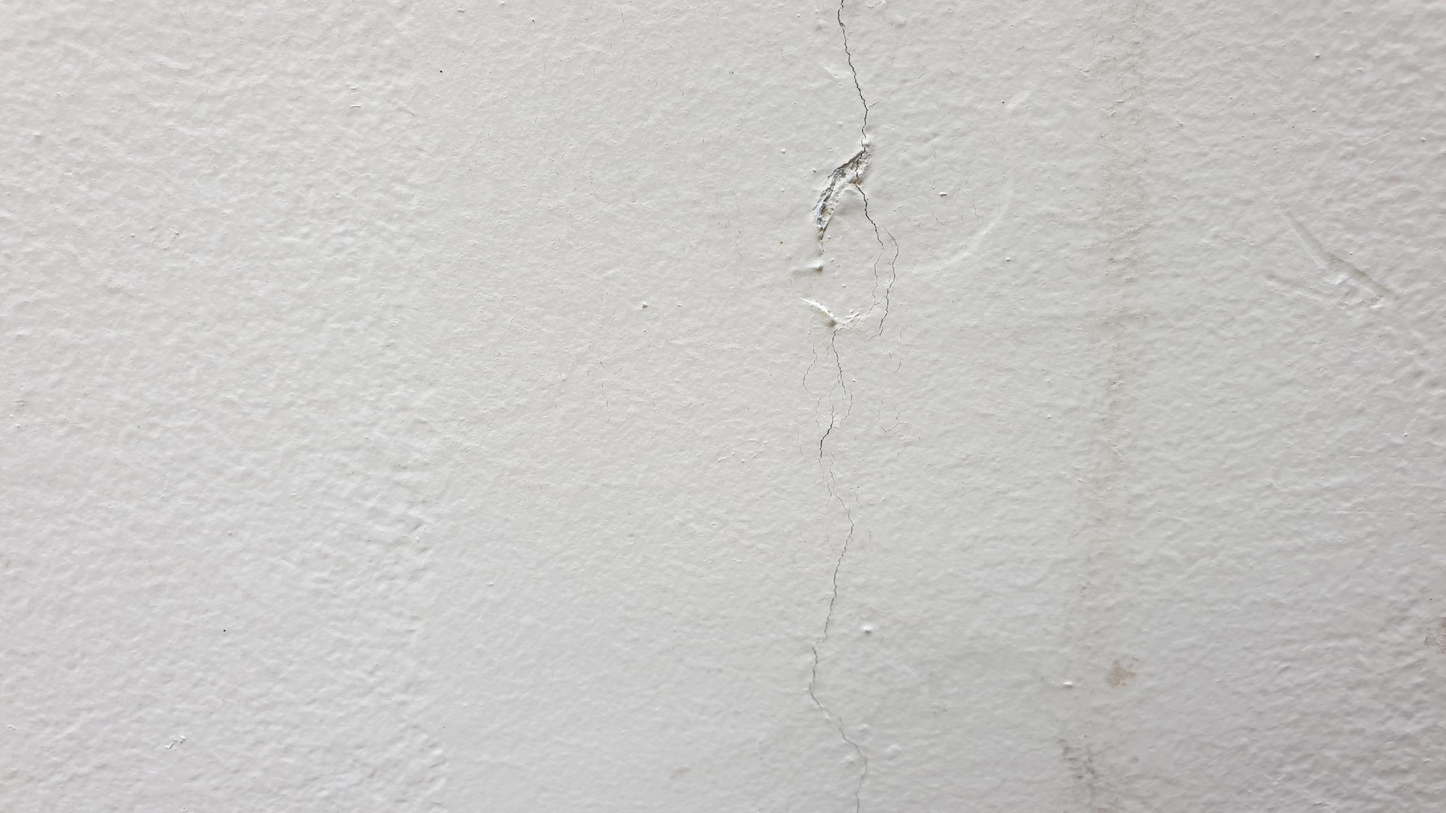crack: (801, 398, 875, 805), (825, 10, 885, 274)
